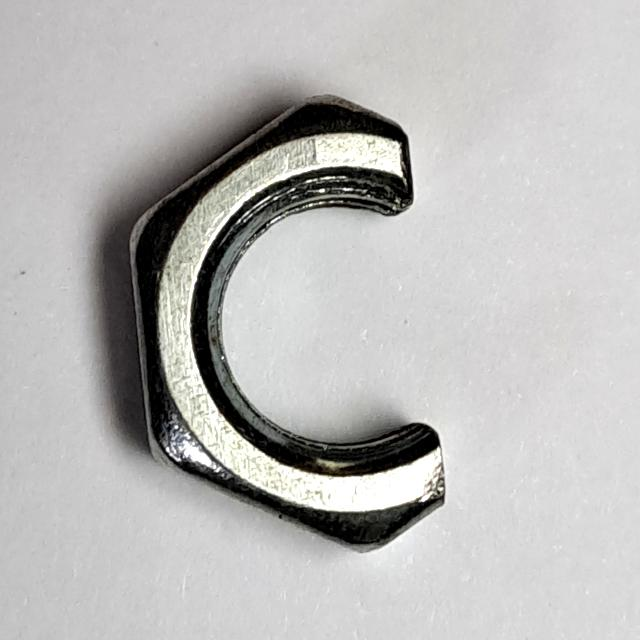Fracture: (113, 80, 466, 562)
